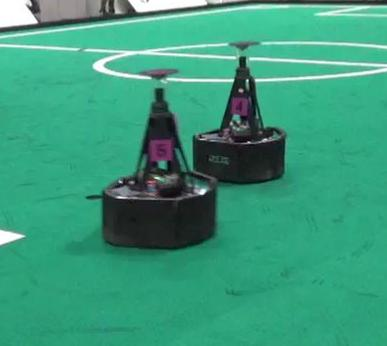robot: (98, 66, 217, 250), (192, 34, 288, 186)
